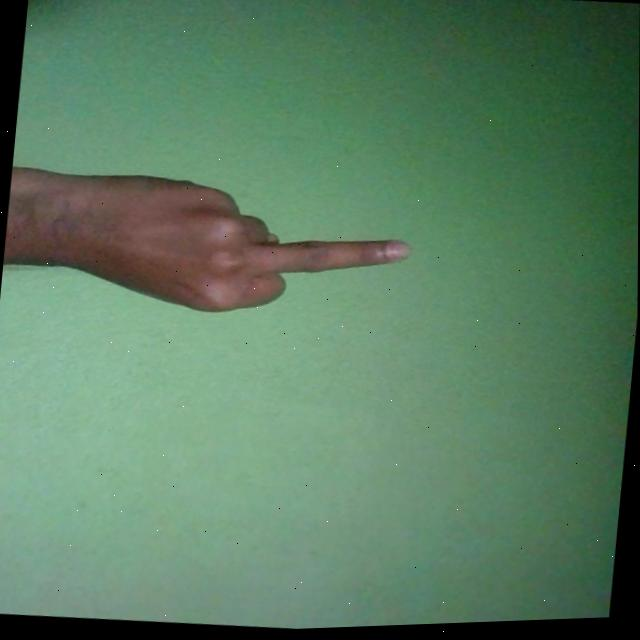Middle Finger: (15, 158, 417, 337)
